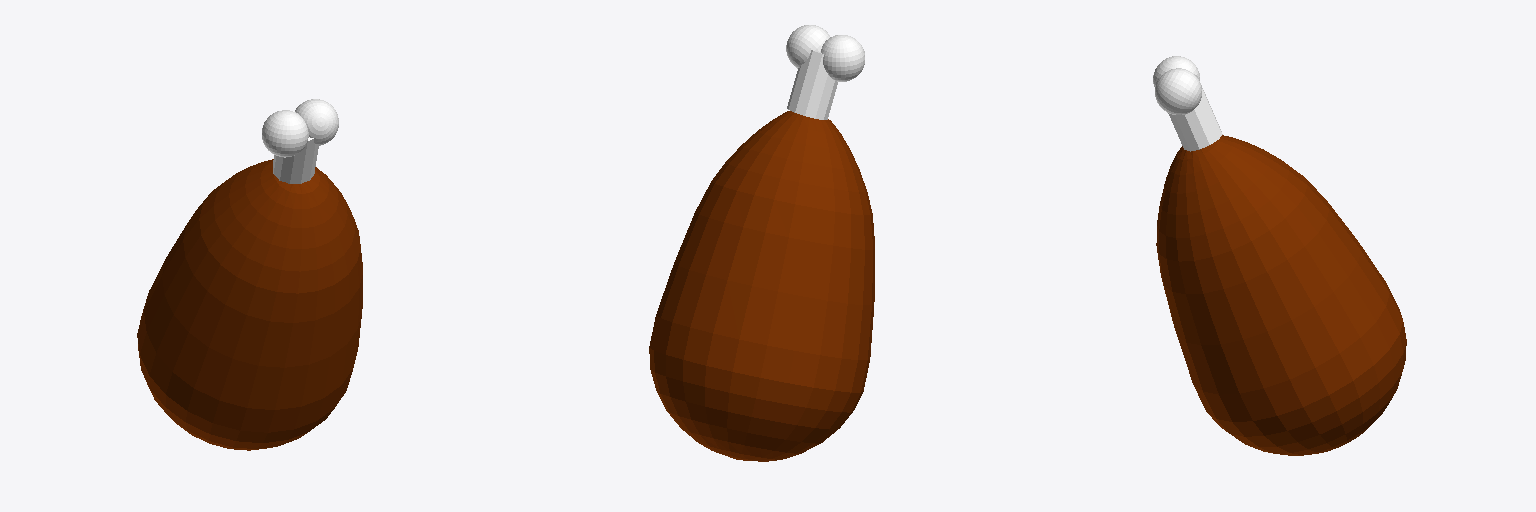
The model's file is galbi2.obj.
3 renders of one model, left to right at view 1: azimuth 30°, elevation 25°; view 2: azimuth 150°, elevation 25°; view 3: azimuth 270°, elevation 25°, orthographic.
Visible parts, largest first — view 1: OilTank001, Sphere003; view 2: OilTank001, Sphere003; view 3: OilTank001, Sphere003.
Part boxes in pixels (left/top/right/bottom): OilTank001: left=137, top=159, right=362, bottom=450; Sphere003: left=262, top=99, right=338, bottom=183; OilTank001: left=649, top=111, right=874, bottom=461; Sphere003: left=786, top=25, right=864, bottom=119; OilTank001: left=1156, top=135, right=1406, bottom=455; Sphere003: left=1153, top=56, right=1222, bottom=151.
Bounding box in the file's own units: 2.81 × 5.38 × 3.26.